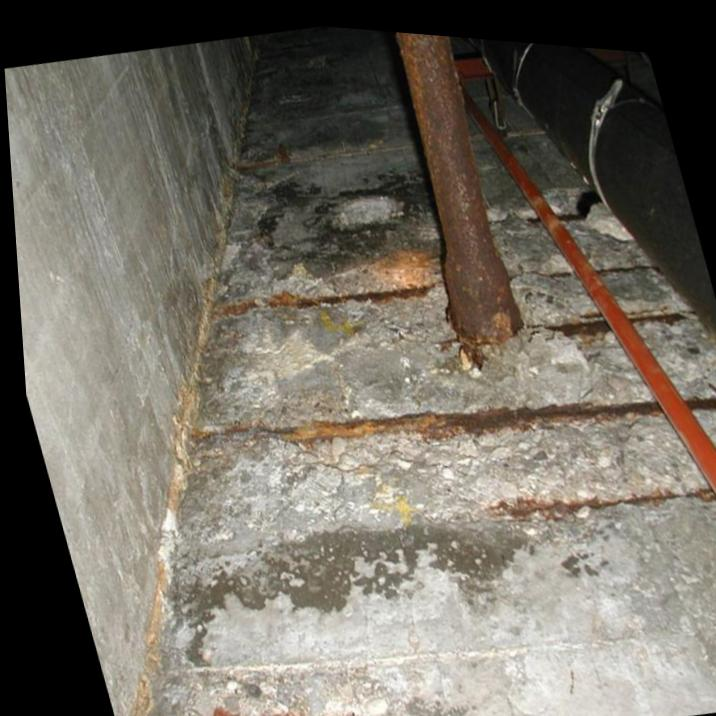damage: (171, 203, 705, 549), (562, 205, 716, 443), (171, 669, 399, 716)
